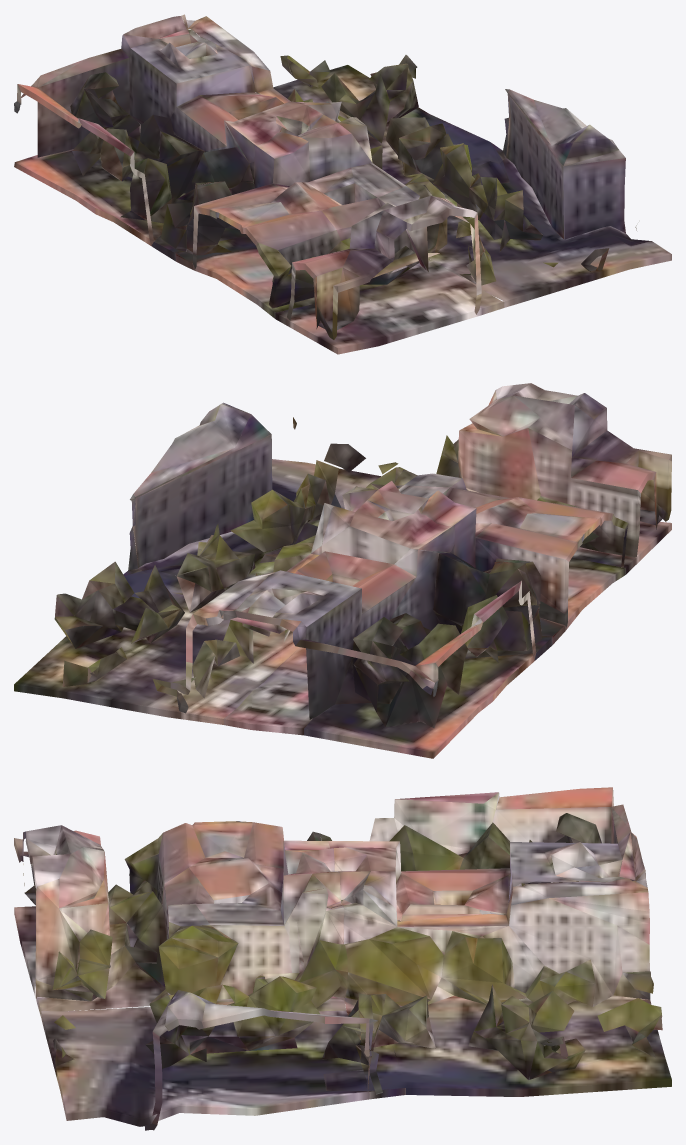
3 renders of one model, top to bottom at view 1: azimuth 30°, elevation 25°; view 2: azimuth 150°, elevation 25°; view 3: azimuth 270°, elevation 25°, orthographic. The views are drawn at different scales.
Parts seen in each view (by area): view 1: Mesh_0; view 2: Mesh_0; view 3: Mesh_0.
Part boxes in pixels (x1=…): Mesh_0: x1=14, y1=14, x2=671, y2=354; Mesh_0: x1=14, y1=383, x2=671, y2=758; Mesh_0: x1=14, y1=787, x2=671, y2=1130.
Bounding box in the file's own units: 133 × 41.74 × 165.
1 material, 1 textured.
